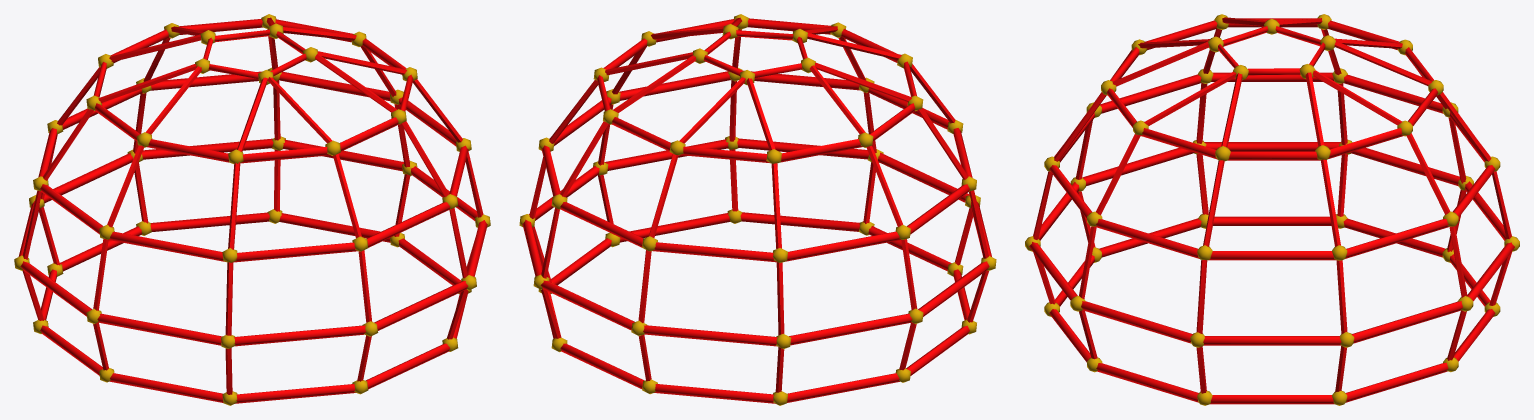
The model's file is SM_Game_Piramid_01.fbx.
3 views of the same model, side by side, from view 1: azimuth 30°, elevation 25°; view 2: azimuth 150°, elevation 25°; view 3: azimuth 270°, elevation 25° (orthographic).
Parts seen in each view (by area): view 1: SM_Game_Piramid_01; view 2: SM_Game_Piramid_01; view 3: SM_Game_Piramid_01.
Part boxes in pixels (box(x1,y1,x2,y2)): SM_Game_Piramid_01: box(14, 14, 490, 405); SM_Game_Piramid_01: box(519, 14, 996, 405); SM_Game_Piramid_01: box(1025, 14, 1519, 405).
Size of the model in its own units: 251 by 160 by 262.
Materials: 1 (1 with a texture image).
